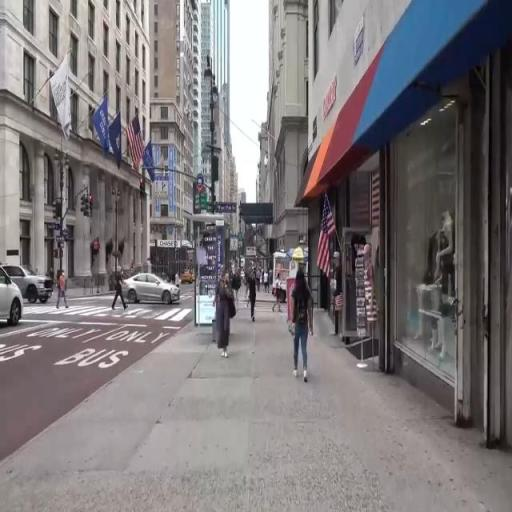person: (295, 270, 313, 383), (216, 270, 232, 360), (275, 271, 288, 330), (248, 271, 261, 329), (115, 267, 128, 314), (61, 270, 72, 311), (263, 267, 270, 301), (257, 268, 262, 293)
